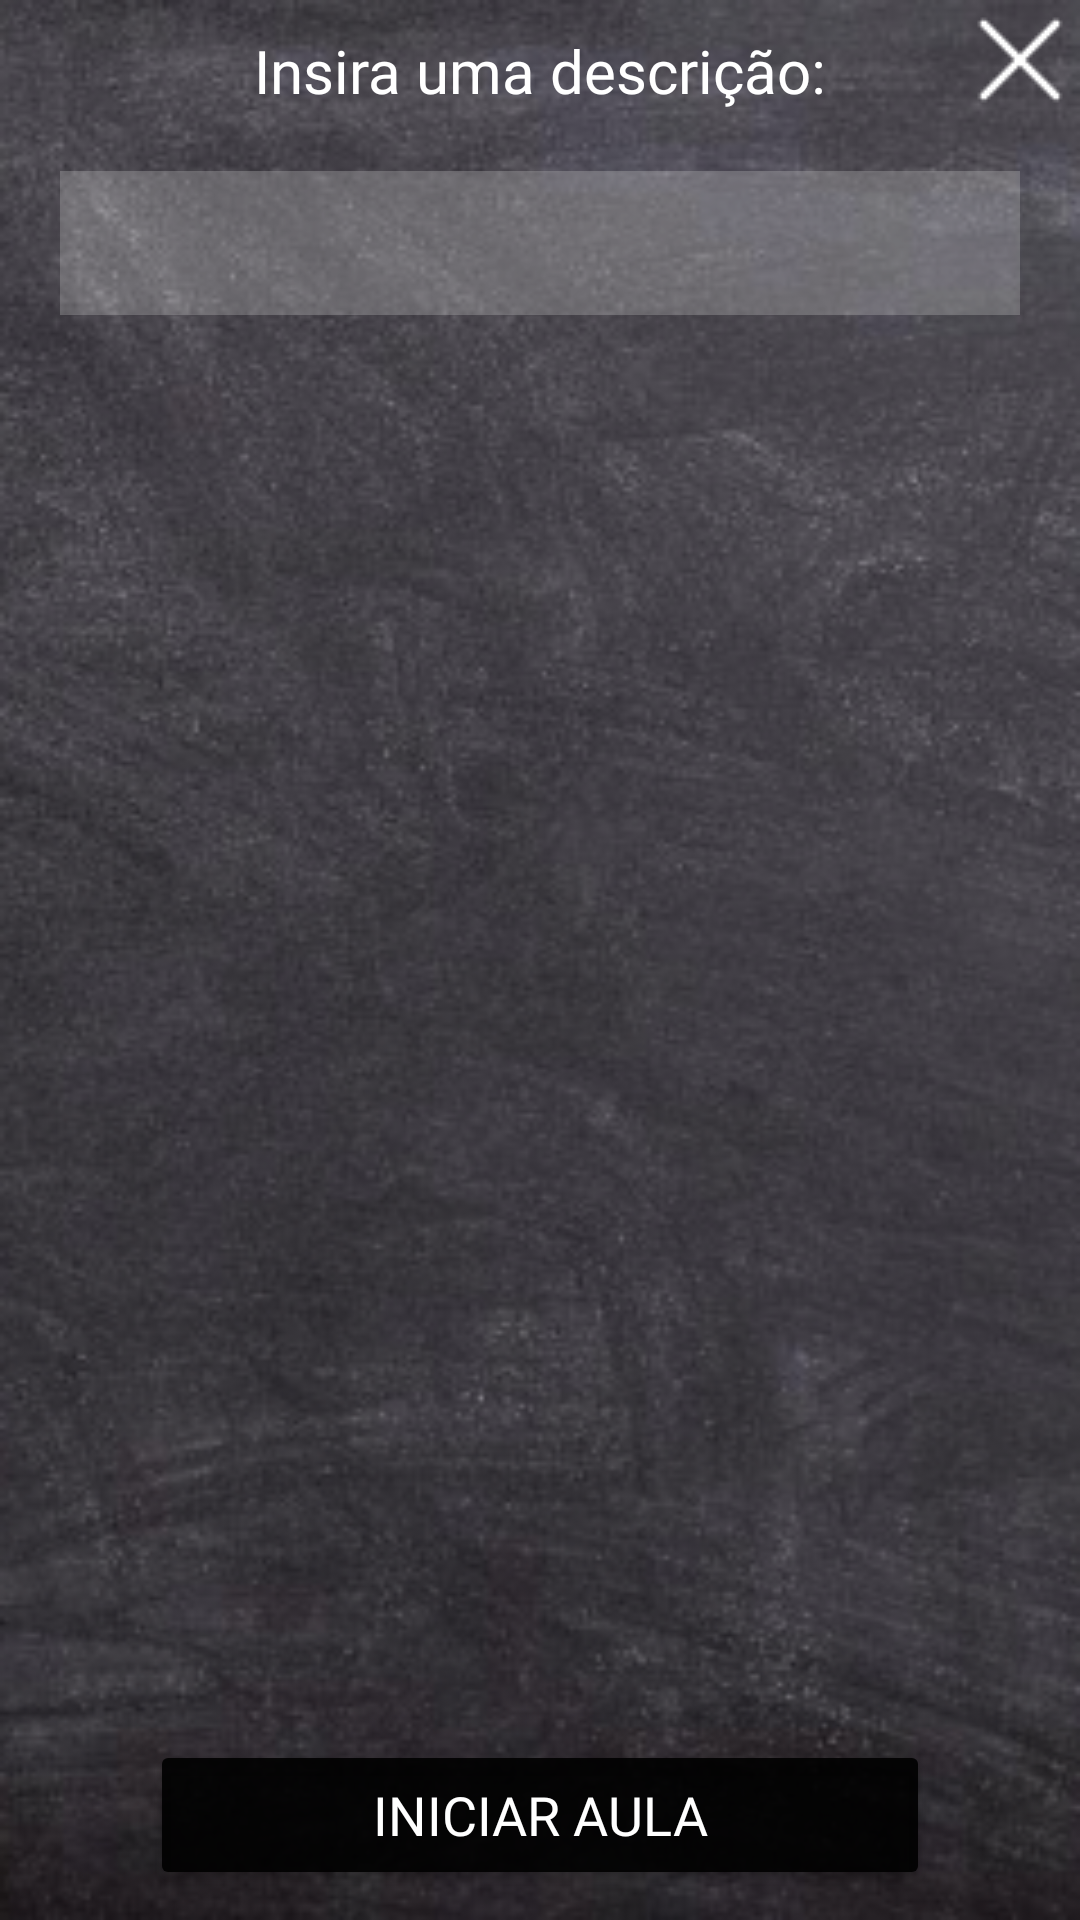

Icon bounding boxes for this 1080*1920 phone screenshot, format (left=x1, top=y1, right=x2, bottom=y2):
fechar: (left=978, top=19, right=1062, bottom=102)
